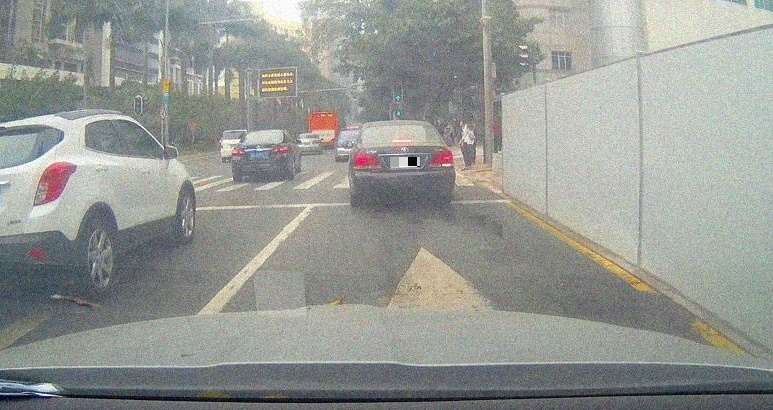L_light: (353, 151, 382, 169), (232, 147, 246, 160)
R_light: (430, 150, 454, 167), (271, 145, 289, 157)
T_light: (392, 139, 412, 142), (257, 132, 269, 134)
day-no: (232, 130, 291, 180)
day-right: (351, 122, 454, 205)
plate_1: (390, 157, 420, 167)
